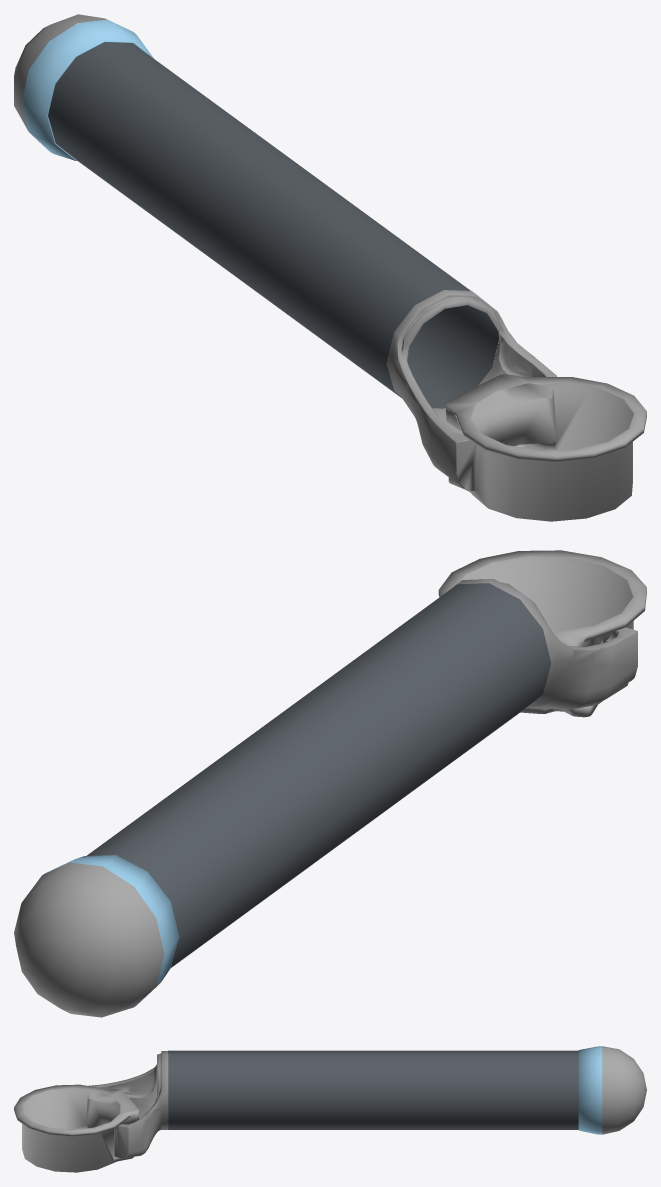
Rendered from LEFT_ELBOW_PITCH_LINK_413mm_LENGTH.obj.
3 renders of one model, top to bottom at view 1: azimuth 30°, elevation 25°; view 2: azimuth 150°, elevation 25°; view 3: azimuth 270°, elevation 25°, orthographic. The views are drawn at different scales.
Size of the model in its own units: 0.0885 by 0.0734 by 0.4542.
